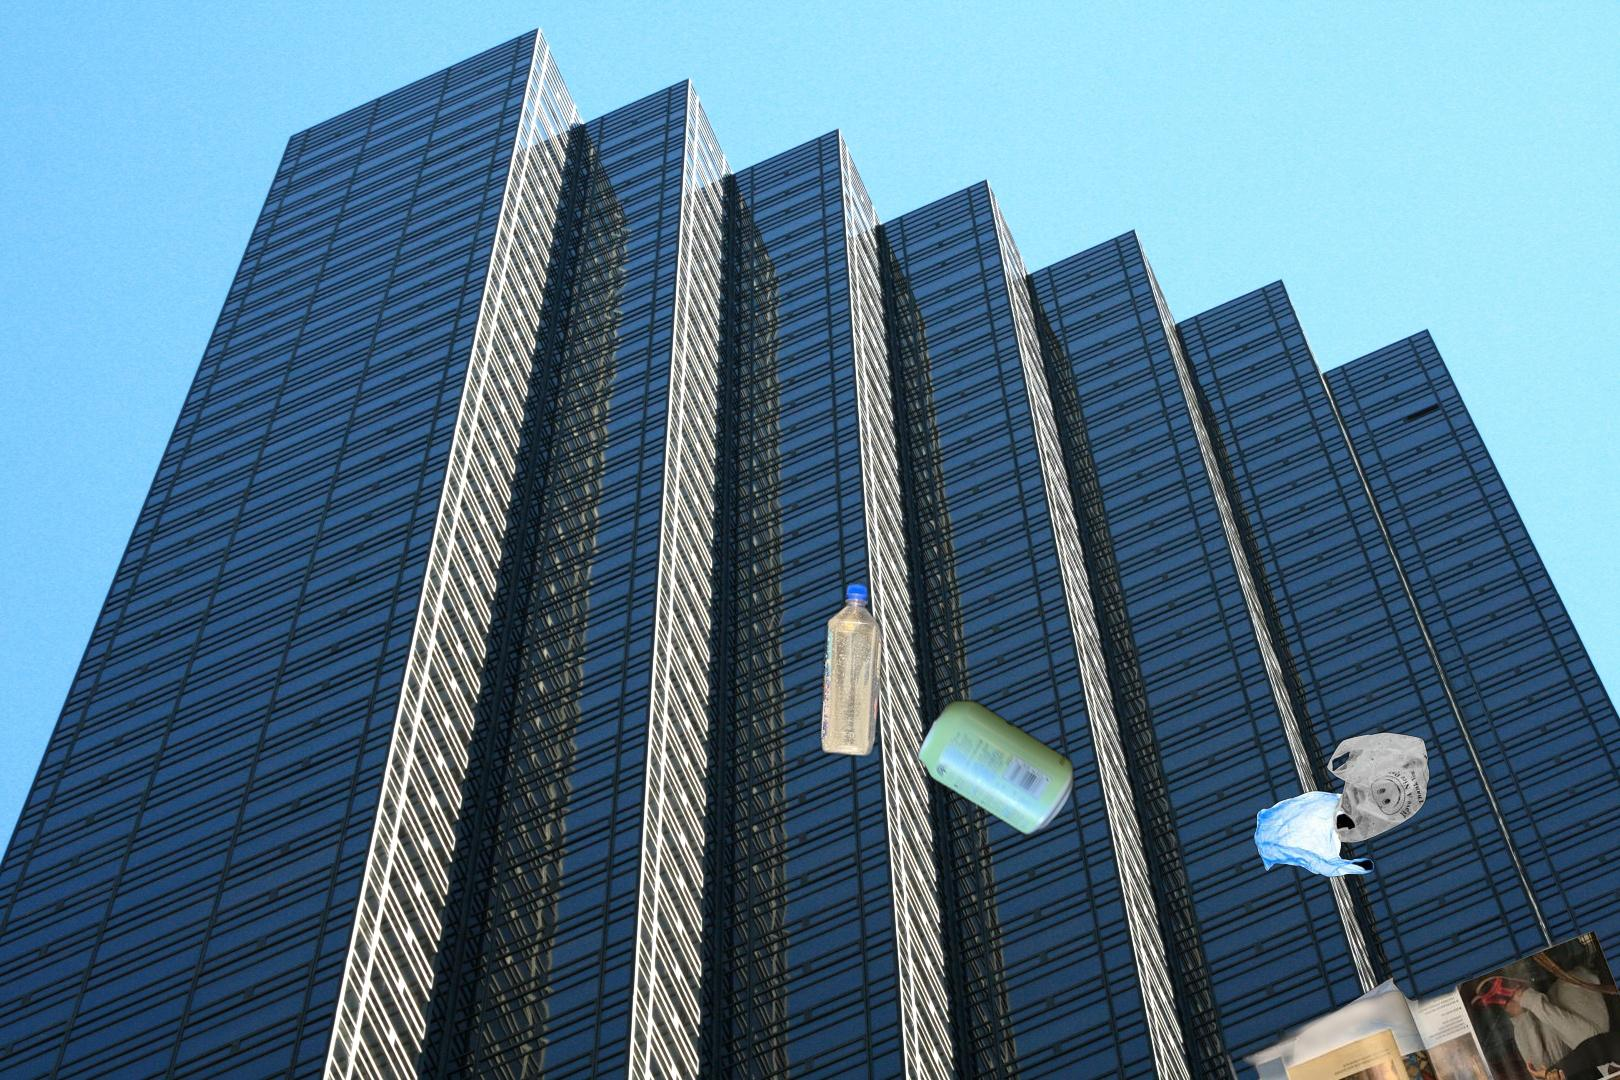metal-cans: (912, 694, 1078, 843)
paper: (1221, 927, 1620, 1080)
plastic-bag: (1254, 729, 1432, 880), (1290, 974, 1445, 1080)
plastic-bottles: (815, 574, 1128, 762)
